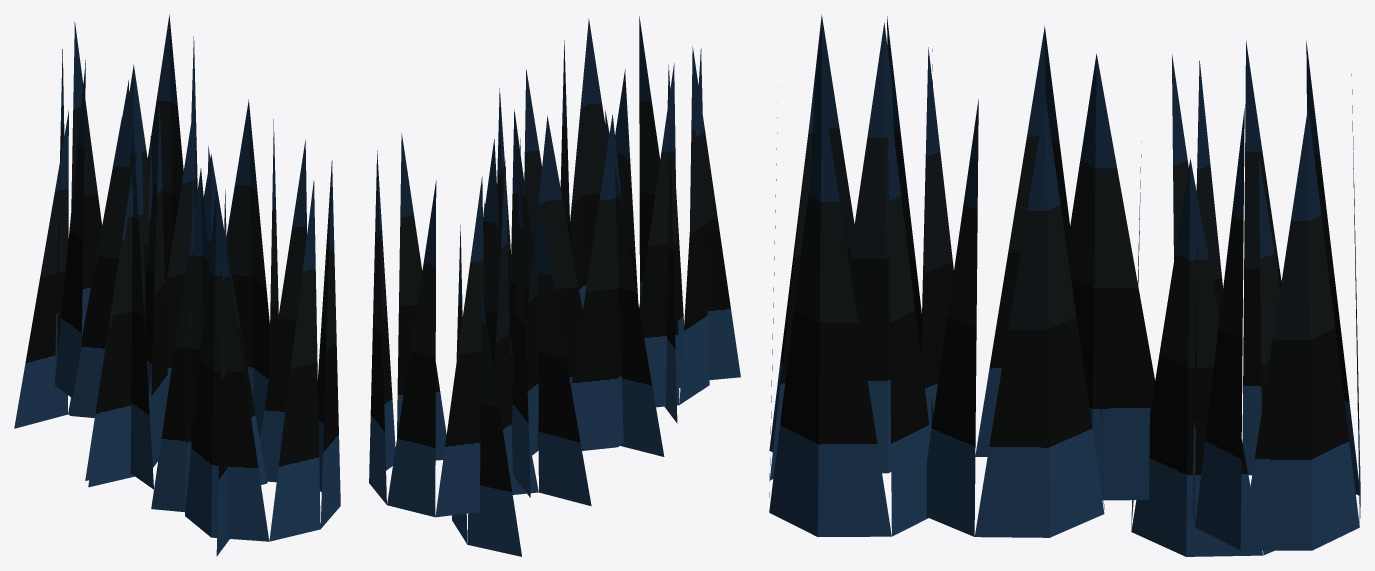
3 renders of one model, left to right at view 1: azimuth 30°, elevation 25°; view 2: azimuth 150°, elevation 25°; view 3: azimuth 270°, elevation 25°, orthographic. The views are drawn at different scales.
Bounding box in the file's own units: 0.9583 × 1.8 × 1.97.
